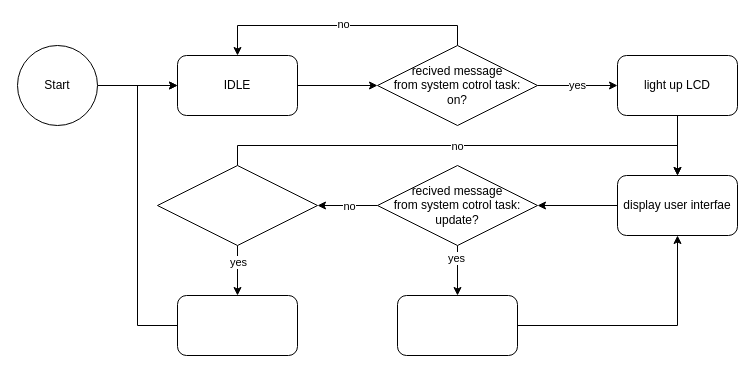
Some shapes in this 755 by 373 pixel diagram are drawn without their labels. Here are the shapes that lost their labels. From the top down, the centre of each, then its label:
(237,205): recived message from system cotrol task: off?
(237,325): turn off LCD
(457,325): update user interface
